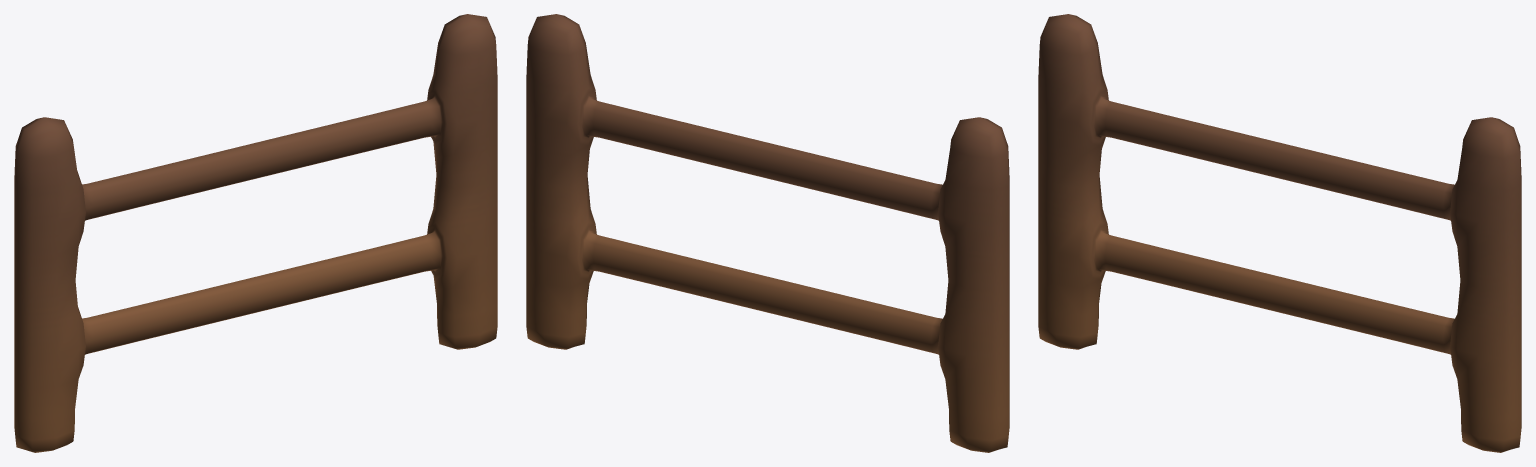
The model's file is fence.fbx.
3 views of the same model, side by side, from view 1: azimuth 30°, elevation 25°; view 2: azimuth 150°, elevation 25°; view 3: azimuth 330°, elevation 25° (orthographic).
Parts seen in each view (by area): view 1: Fence.001; view 2: Fence.001; view 3: Fence.001.
Boxes of the visible parts, box(x1,y1,x2,y2) form: Fence.001: box(14, 14, 497, 452); Fence.001: box(526, 14, 1009, 452); Fence.001: box(1038, 14, 1521, 452).
Size of the model in its own units: 115 by 74.79 by 10.31.
